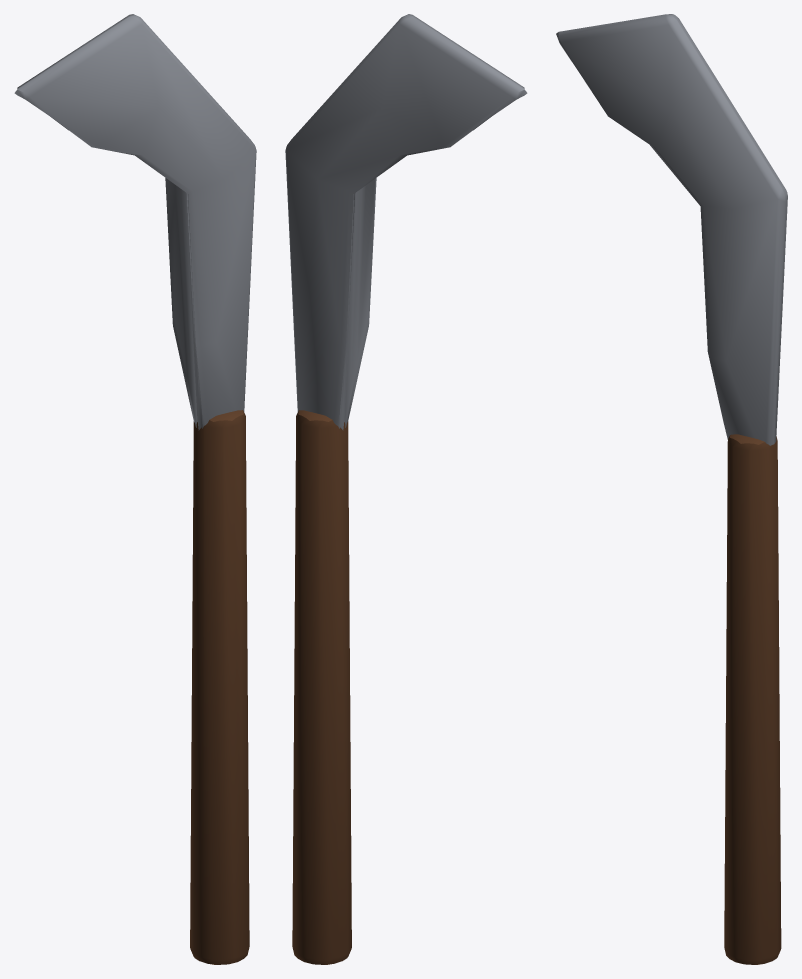
File: hook.glb
The picture shows the model from 3 angles, left to right: view 1: azimuth 30°, elevation 25°; view 2: azimuth 150°, elevation 25°; view 3: azimuth 330°, elevation 25°; orthographic projection. The views are drawn at different scales.
Parts seen in each view (by area): view 1: wpn_hook; view 2: wpn_hook; view 3: wpn_hook.
Part boxes in pixels (x1,y1,x2,y2): wpn_hook: (14, 14, 256, 964); wpn_hook: (285, 14, 527, 964); wpn_hook: (556, 14, 787, 964).
Size of the model in its own units: 0.3438 by 1.32 by 0.0743.
